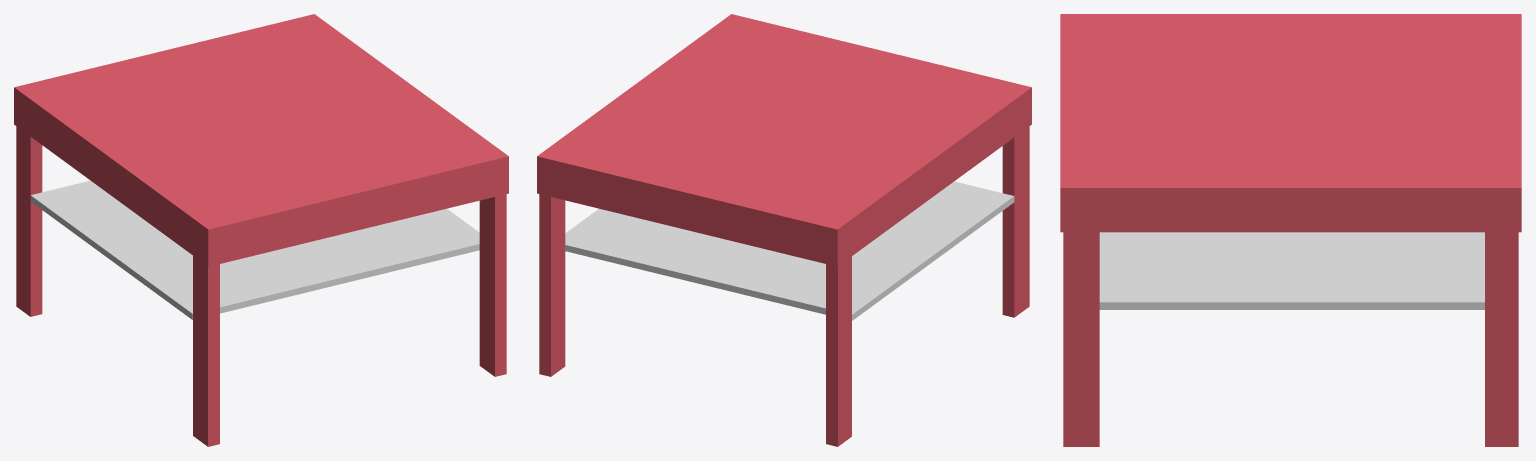
The model's file is SmallTable.fbx.
3 views of the same model, side by side, from view 1: azimuth 30°, elevation 25°; view 2: azimuth 150°, elevation 25°; view 3: azimuth 270°, elevation 25° (orthographic). The views are drawn at different scales.
Parts seen in each view (by area): view 1: Coffe_Table.002, Coffe_Table.003; view 2: Coffe_Table.002, Coffe_Table.003; view 3: Coffe_Table.002, Coffe_Table.003.
Boxes of the visible parts, x1,y1,x2,y2 form: Coffe_Table.002: (14, 14, 508, 446); Coffe_Table.003: (30, 180, 479, 319); Coffe_Table.002: (537, 14, 1031, 446); Coffe_Table.003: (565, 181, 1014, 320); Coffe_Table.002: (1060, 14, 1521, 446); Coffe_Table.003: (1099, 232, 1484, 309).
Bounding box in the file's own units: 113 × 78.6 × 127.
